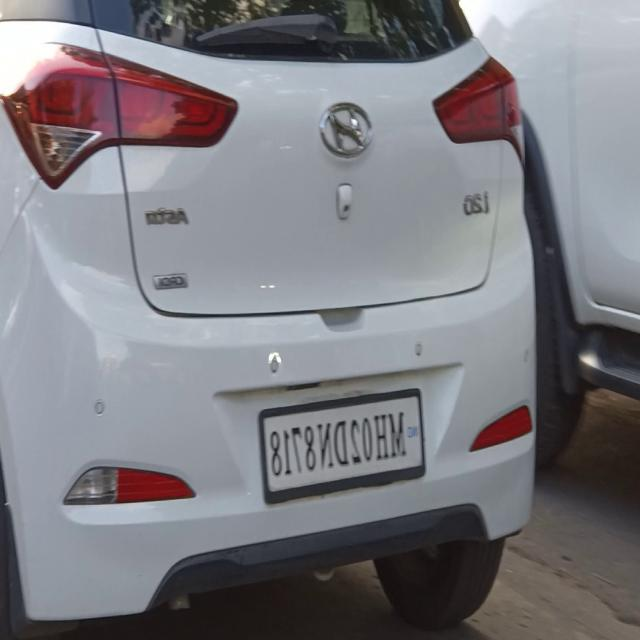license_plate: (256, 385, 426, 507)
